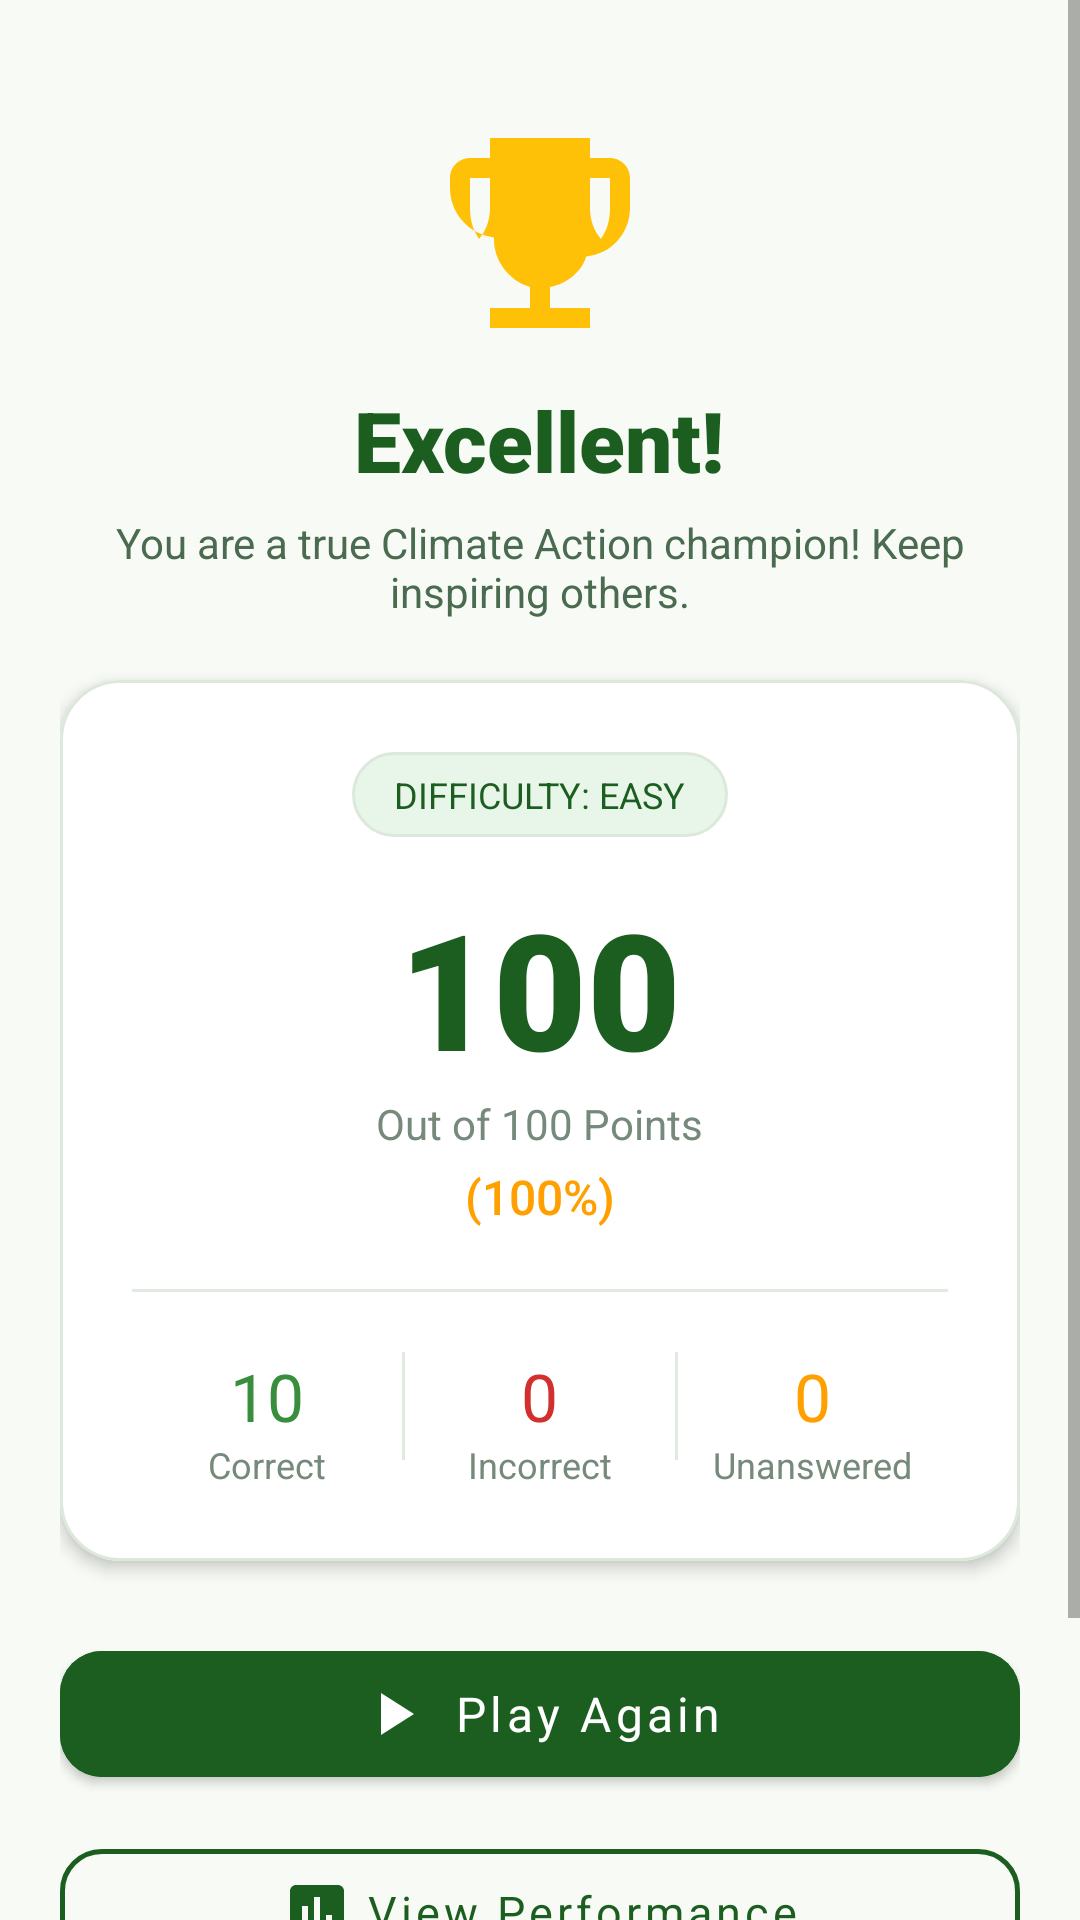

Icon bounding boxes for this 1080px x 1920px phone screenshot, format (x1, y1, x2, y2):
result: (450, 138, 630, 328)
